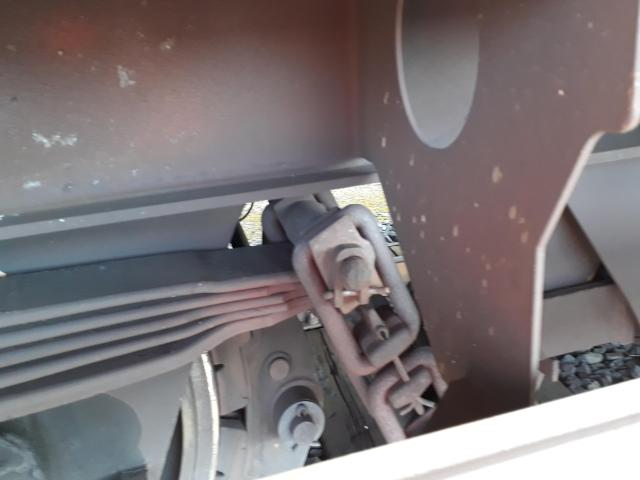blattfederww: (1, 239, 287, 406)
